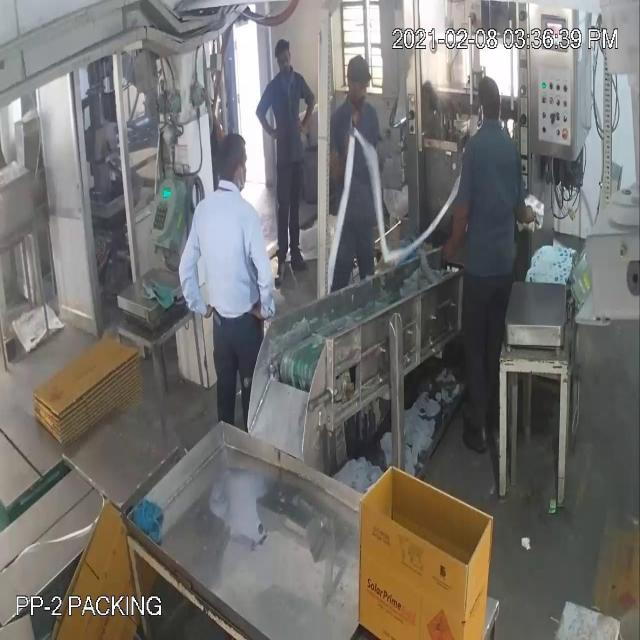No_Gloves: (19, 57, 456, 272)
